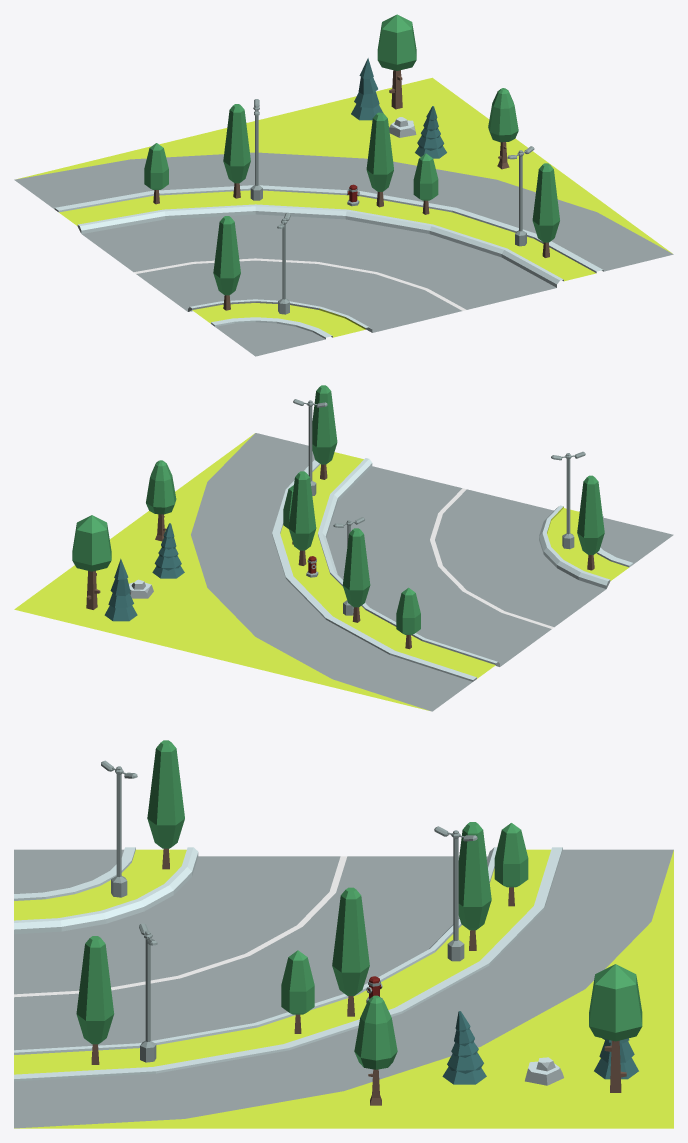
Rendered from Tile_Road_Turn_Base.fbx.
The picture shows the model from 3 angles, top to bottom: view 1: azimuth 30°, elevation 25°; view 2: azimuth 150°, elevation 25°; view 3: azimuth 270°, elevation 25°; orthographic projection. The views are drawn at different scales.
Parts seen in each view (by area): view 1: Plane.005; view 2: Plane.005; view 3: Plane.005.
Part boxes in pixels (x1,y1,x2,y2): Plane.005: (14, 14, 673, 356); Plane.005: (14, 385, 673, 711); Plane.005: (14, 740, 673, 1128).
Bounding box in the file's own units: 250 × 59.41 × 250.
